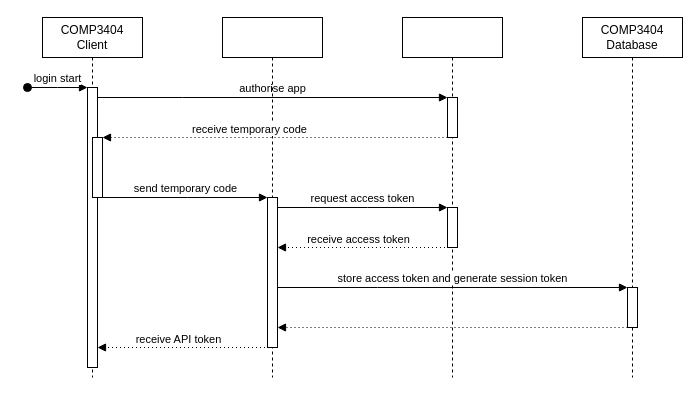
Image size: 700x395. Some labels were removed from this diagram. The shapes that lost their labels are listed below. From the top down, each one's centre as x and y in pixels, then its label:
the point at 272,197: COMP3404 Server
the point at 452,197: Github
